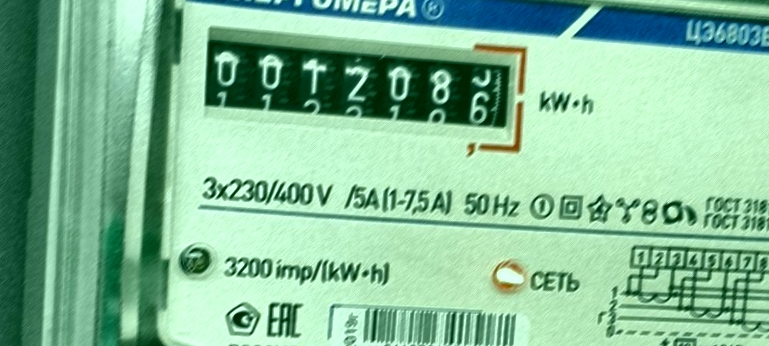0: (254, 47, 284, 90), (211, 44, 237, 87), (385, 61, 410, 101)
1: (299, 52, 323, 94)
2: (342, 61, 369, 101)
6: (463, 86, 489, 123)
8: (427, 64, 451, 105)
screen: (192, 11, 536, 164)
